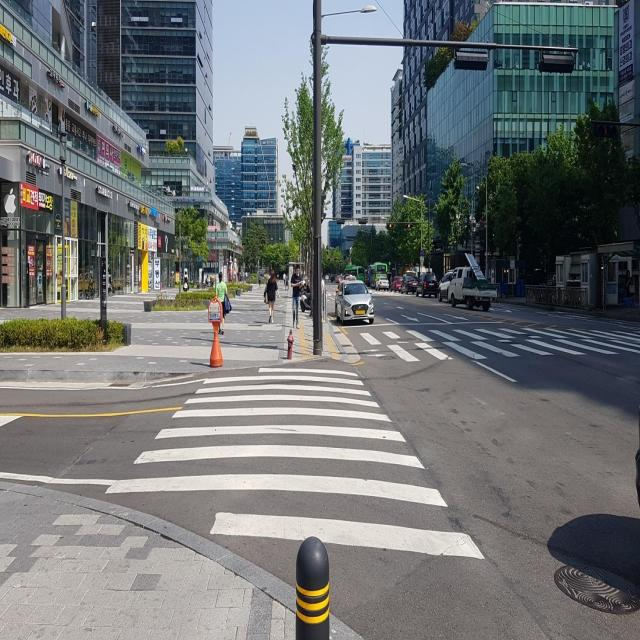횡단보도: (101, 366, 486, 564), (360, 324, 640, 364)
